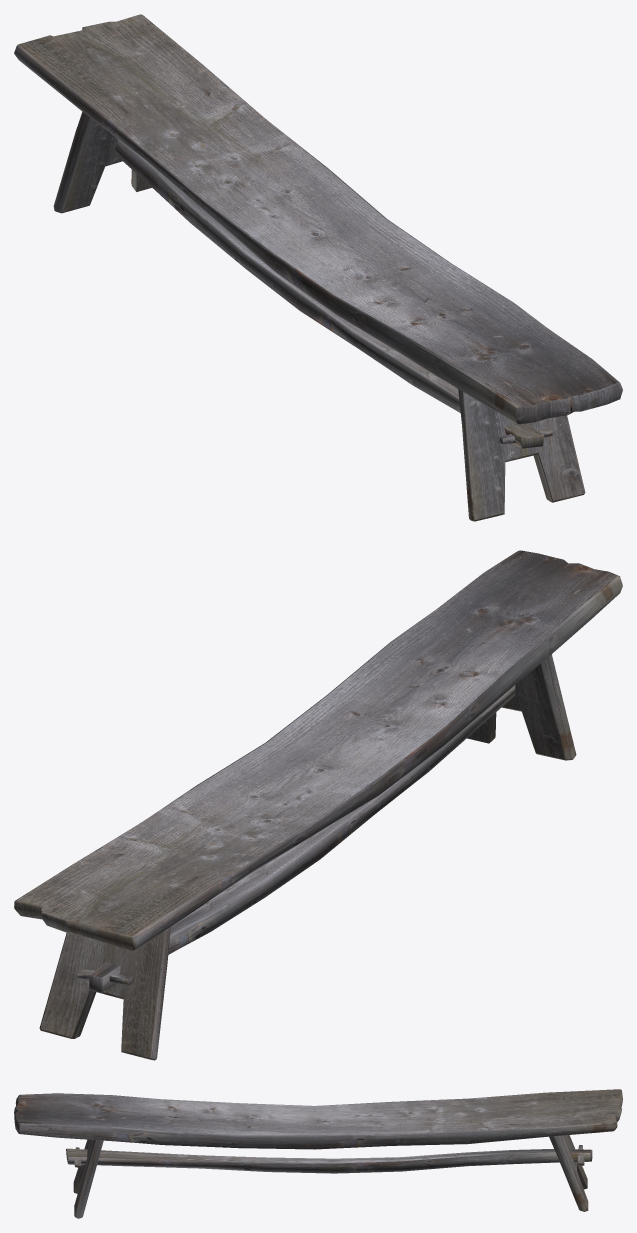
File: sm_Bench_01_01.fbx
3 views of the same model, one above another, from view 1: azimuth 30°, elevation 25°; view 2: azimuth 150°, elevation 25°; view 3: azimuth 270°, elevation 25° (orthographic). The views are drawn at different scales.
Parts seen in each view (by area): view 1: sm_Bench_01_01_LOD0; view 2: sm_Bench_01_01_LOD0; view 3: sm_Bench_01_01_LOD0.
Part boxes in pixels (<box>): sm_Bench_01_01_LOD0: <box>14,14,622,521</box>; sm_Bench_01_01_LOD0: <box>14,550,622,1060</box>; sm_Bench_01_01_LOD0: <box>14,1089,622,1218</box>.
Size of the model in its own units: 54.53 by 366 by 63.85.
